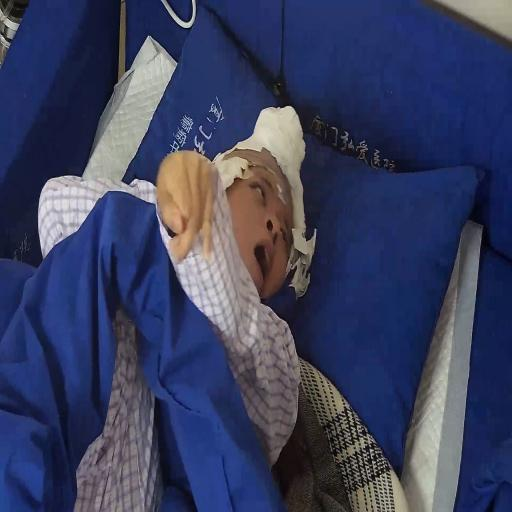Seizure: (218, 132, 307, 298)
